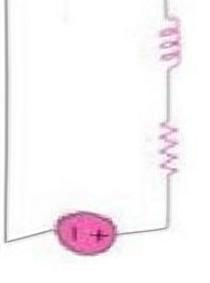Battery: (42, 199, 122, 267)
